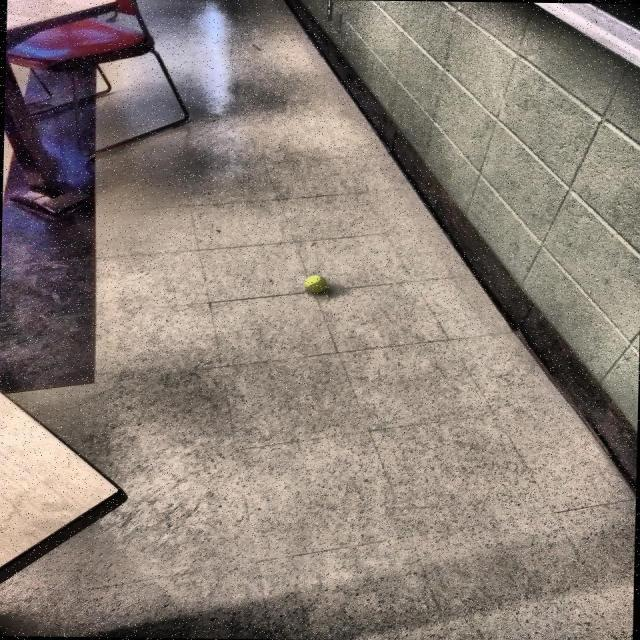tennis-ball: (304, 274, 330, 300)
